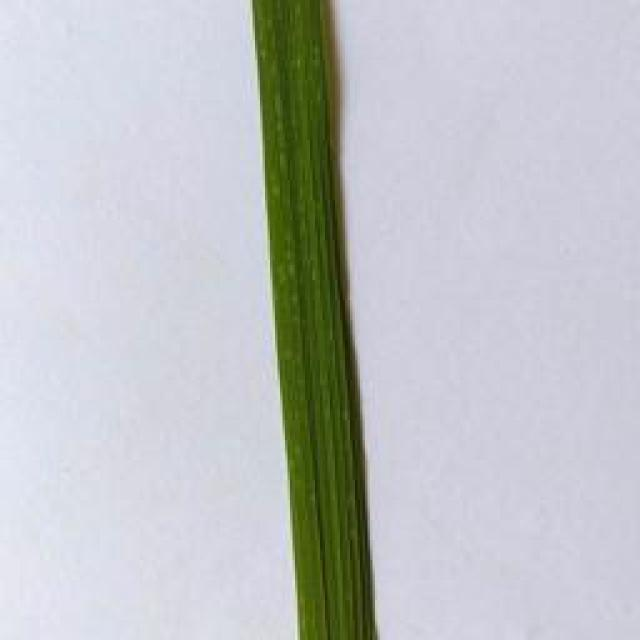Healthy-Plant: (254, 0, 374, 640)
